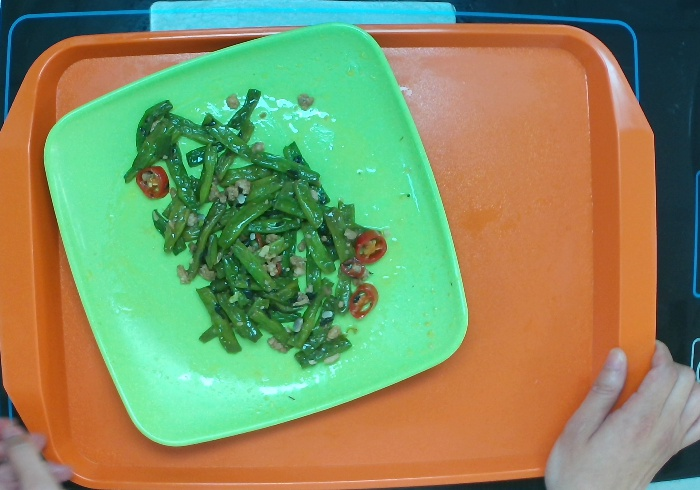ZNLD-Lv_Fang_Pan: (26, 16, 482, 457)
